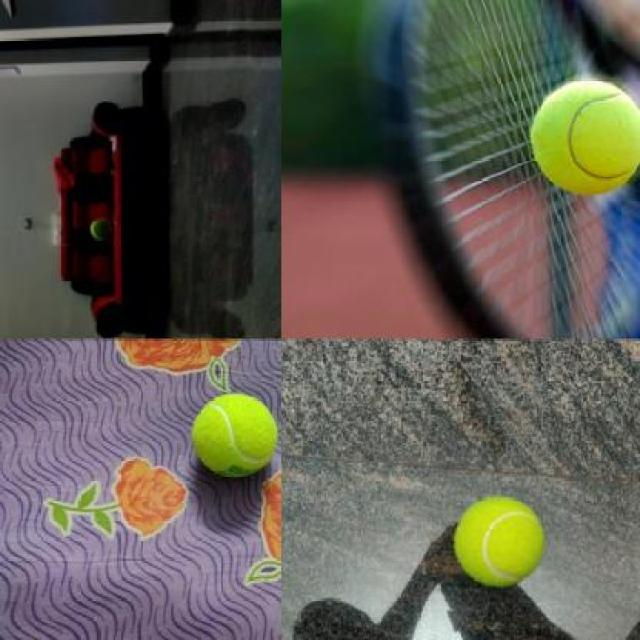Cricket ball: (524, 73, 640, 198), (449, 492, 547, 592), (190, 387, 282, 485)
